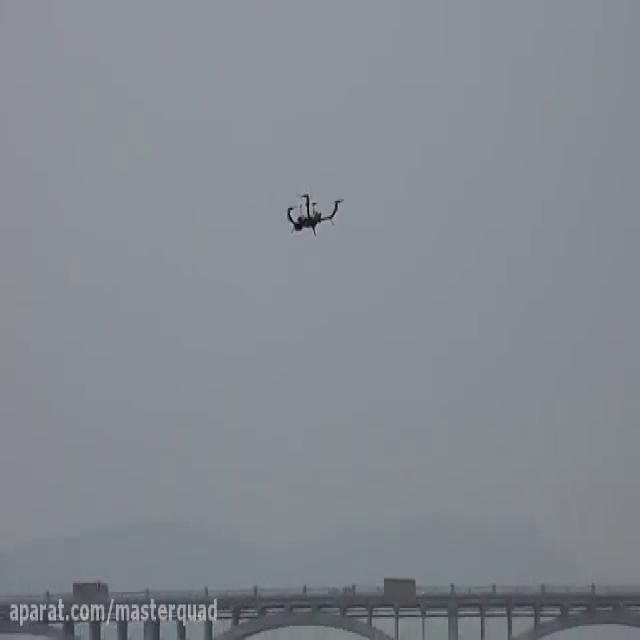drone: (283, 182, 347, 244)
